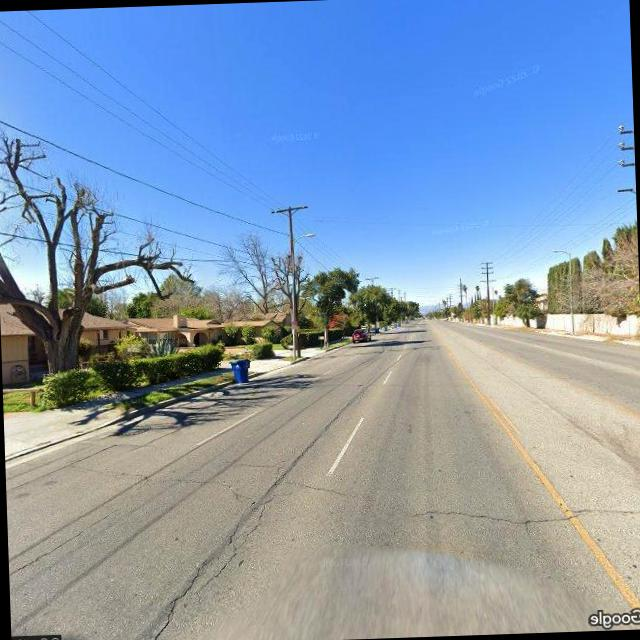crack: (146, 399, 356, 640), (278, 465, 640, 532), (54, 455, 266, 514), (11, 498, 136, 574)
